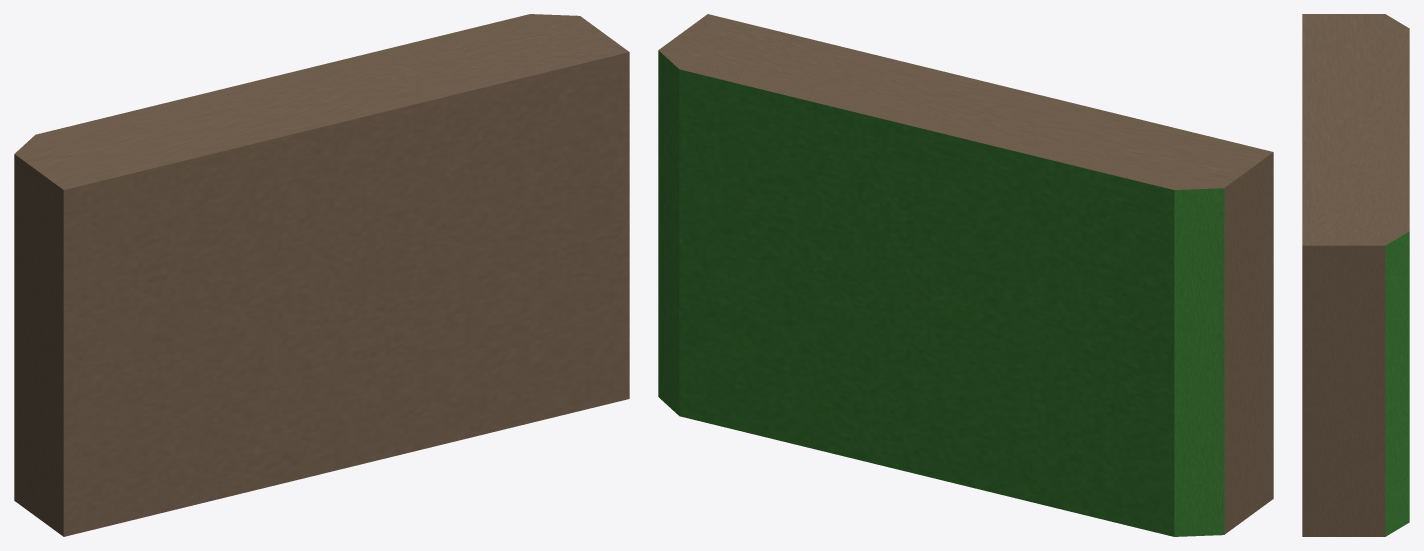
Rendered from de_green_2.fbx.
The picture shows the model from 3 angles, left to right: view 1: azimuth 30°, elevation 25°; view 2: azimuth 150°, elevation 25°; view 3: azimuth 270°, elevation 25°; orthographic projection. The views are drawn at different scales.
Parts seen in each view (by area): view 1: Cube.307; view 2: Cube.307; view 3: Cube.307.
Boxes of the visible parts, x1=… form: Cube.307: x1=14, y1=14, x2=629, y2=536; Cube.307: x1=658, y1=14, x2=1273, y2=536; Cube.307: x1=1302, y1=14, x2=1409, y2=536.
Bounding box in the file's own units: 529 × 310 × 103.
